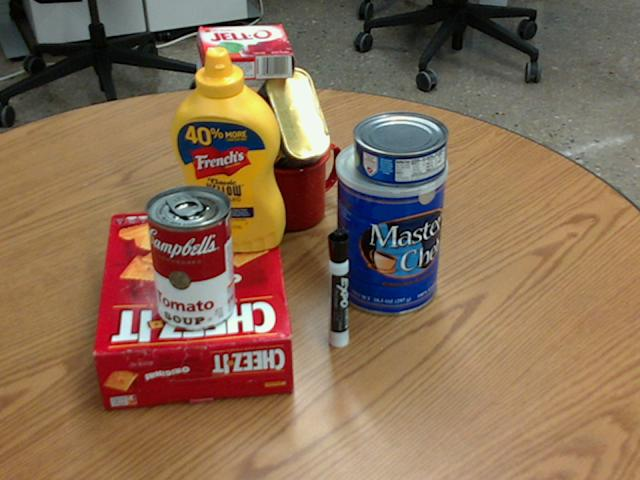cracker_box: (94, 205, 294, 407)
gelatin_box: (198, 26, 293, 81)
large_marker: (328, 228, 349, 347)
master_chef_can: (334, 135, 447, 314)
mug: (246, 129, 343, 229)
mustard_bottle: (169, 46, 283, 250)
potted_meat_can: (243, 69, 330, 185)
sugar_box: (198, 60, 249, 249)
tomato_soup_can: (145, 184, 235, 329)
tuna_fish_can: (353, 111, 448, 185)
